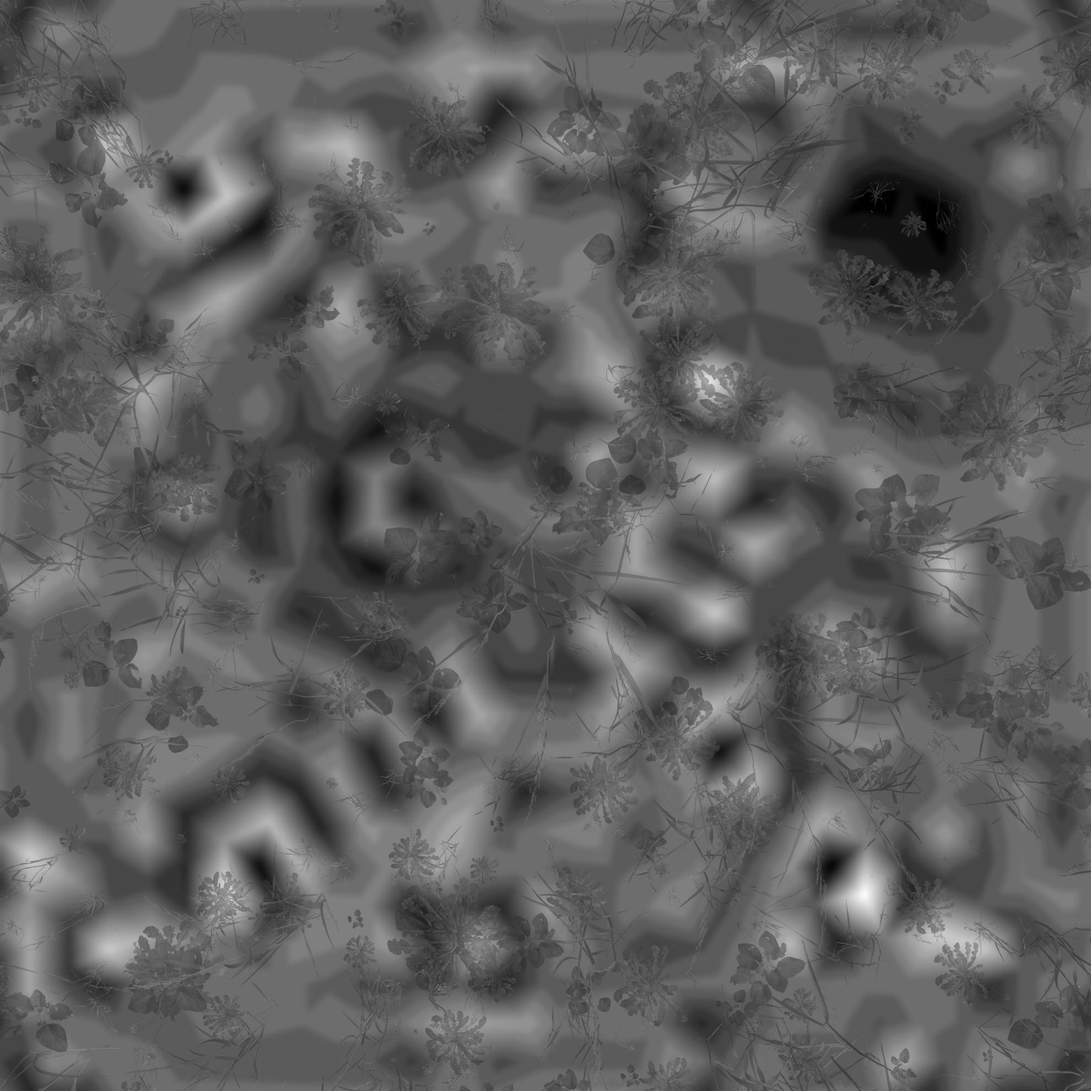landmine: (317, 410, 498, 581), (813, 149, 971, 300)
